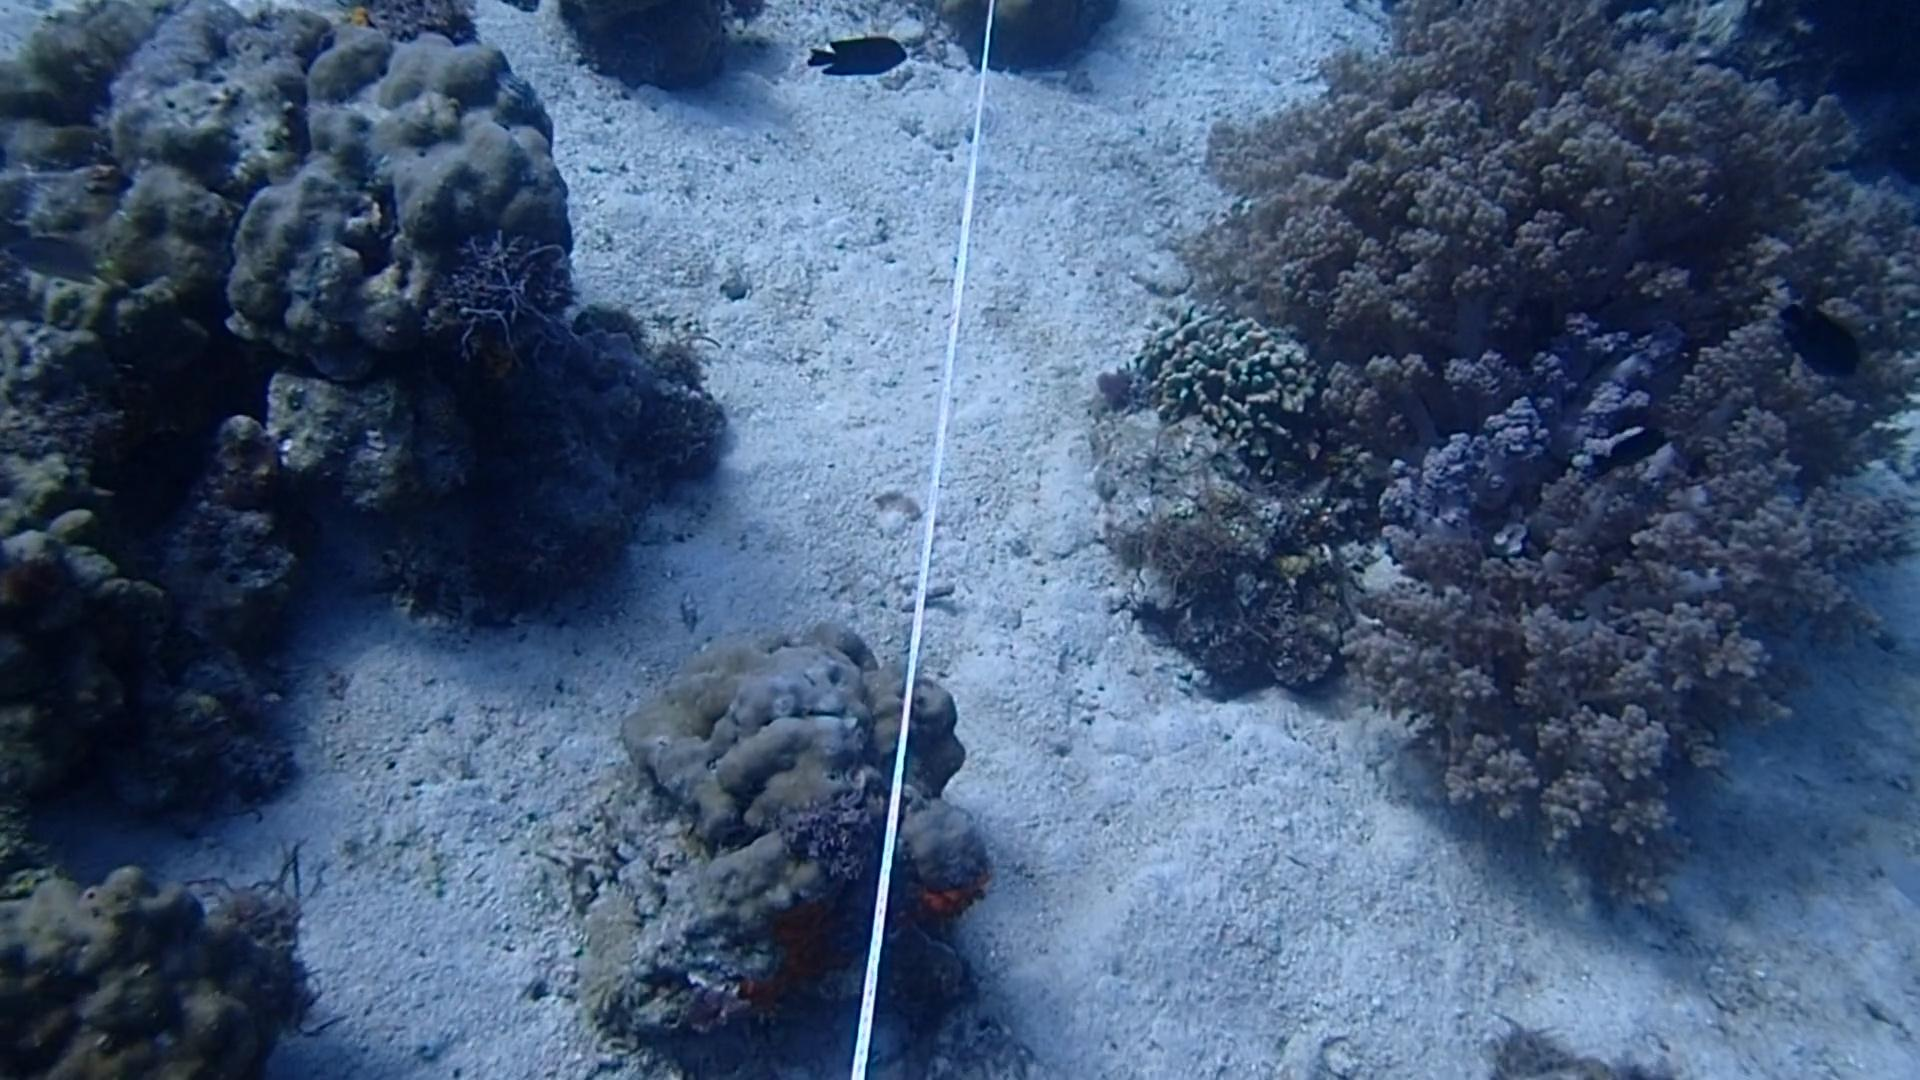Dark Fish: (1771, 291, 1876, 385), (807, 21, 918, 87), (1572, 421, 1667, 479)
